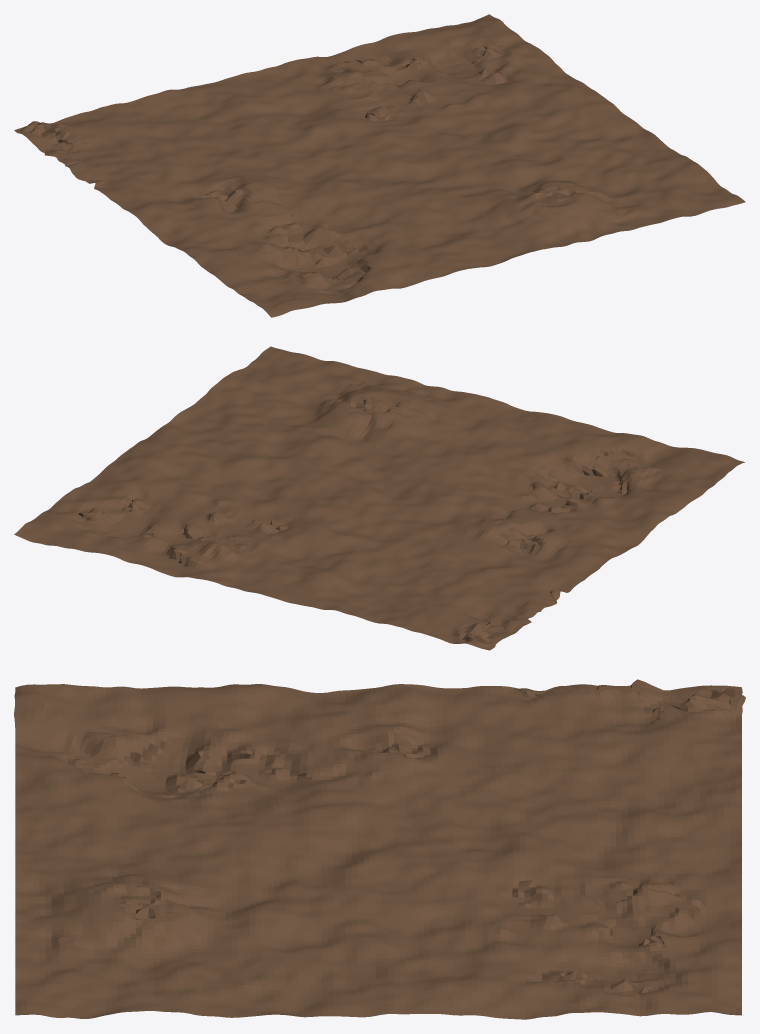
The model's file is MuddyGround1.fbx.
The picture shows the model from 3 angles, top to bottom: view 1: azimuth 30°, elevation 25°; view 2: azimuth 150°, elevation 25°; view 3: azimuth 270°, elevation 25°; orthographic projection. The views are drawn at different scales.
Visible parts, largest first — view 1: Muddy Ground 1; view 2: Muddy Ground 1; view 3: Muddy Ground 1.
Part boxes in pixels (bbox=[...]): Muddy Ground 1: bbox=[14, 14, 745, 317]; Muddy Ground 1: bbox=[14, 346, 744, 650]; Muddy Ground 1: bbox=[14, 679, 745, 1019].
Size of the model in its own units: 9370 by 470 by 8731.
